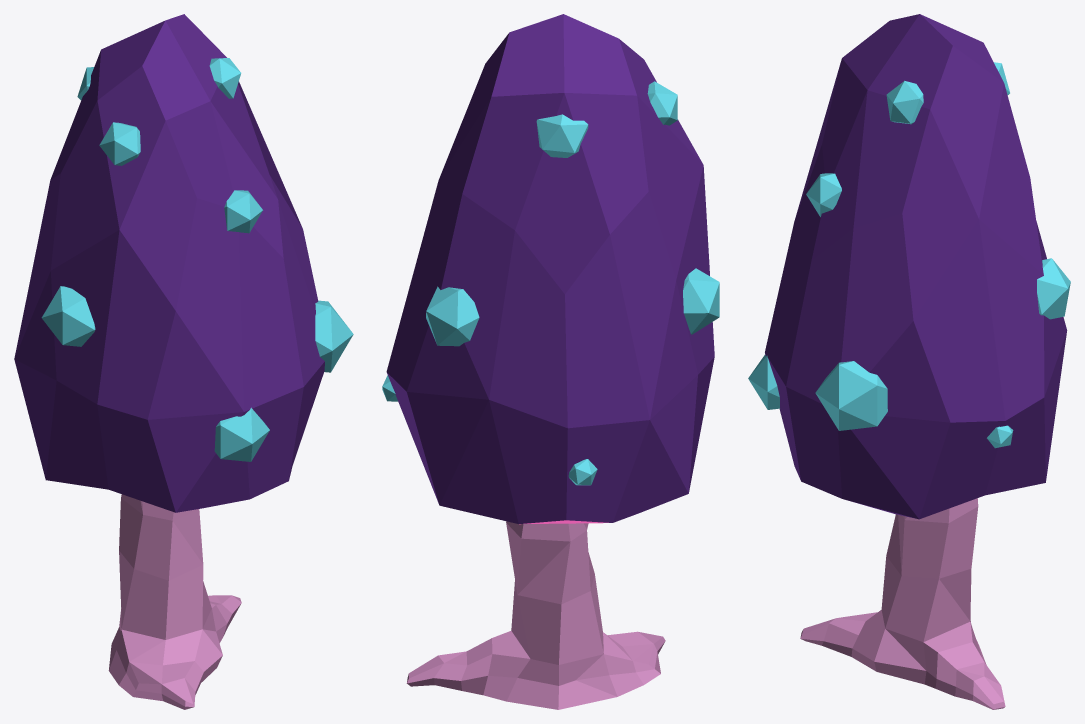
The model's file is Mushroom_Tree_02.fbx.
3 views of the same model, side by side, from view 1: azimuth 30°, elevation 25°; view 2: azimuth 150°, elevation 25°; view 3: azimuth 270°, elevation 25° (orthographic). The views are drawn at different scales.
Visible parts, largest first — view 1: Mushroom_Tree_02; view 2: Mushroom_Tree_02; view 3: Mushroom_Tree_02.
Boxes of the visible parts, <box> form: Mushroom_Tree_02: <box>14,14,353,709</box>; Mushroom_Tree_02: <box>382,14,719,709</box>; Mushroom_Tree_02: <box>748,14,1070,709</box>.
Size of the model in its own units: 235 by 515 by 234.
